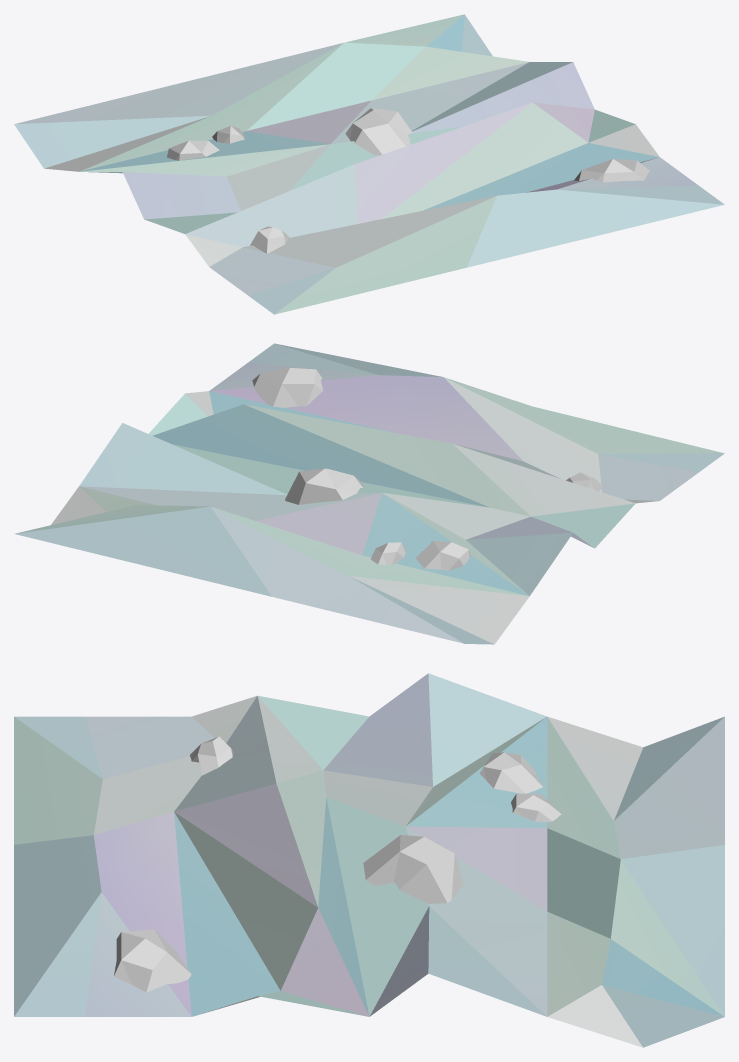
File: sm_ground_ice_1.fbx
3 views of the same model, one above another, from view 1: azimuth 30°, elevation 25°; view 2: azimuth 150°, elevation 25°; view 3: azimuth 270°, elevation 25° (orthographic). The views are drawn at different scales.
Visible parts, largest first — view 1: sm_ground_ice_1; view 2: sm_ground_ice_1; view 3: sm_ground_ice_1.
Part boxes in pixels (x1,y1,x2,y2): sm_ground_ice_1: (14,14,724,314); sm_ground_ice_1: (14,343,724,644); sm_ground_ice_1: (14,673,724,1047).
Size of the model in its own units: 26.71 by 200 by 200.
